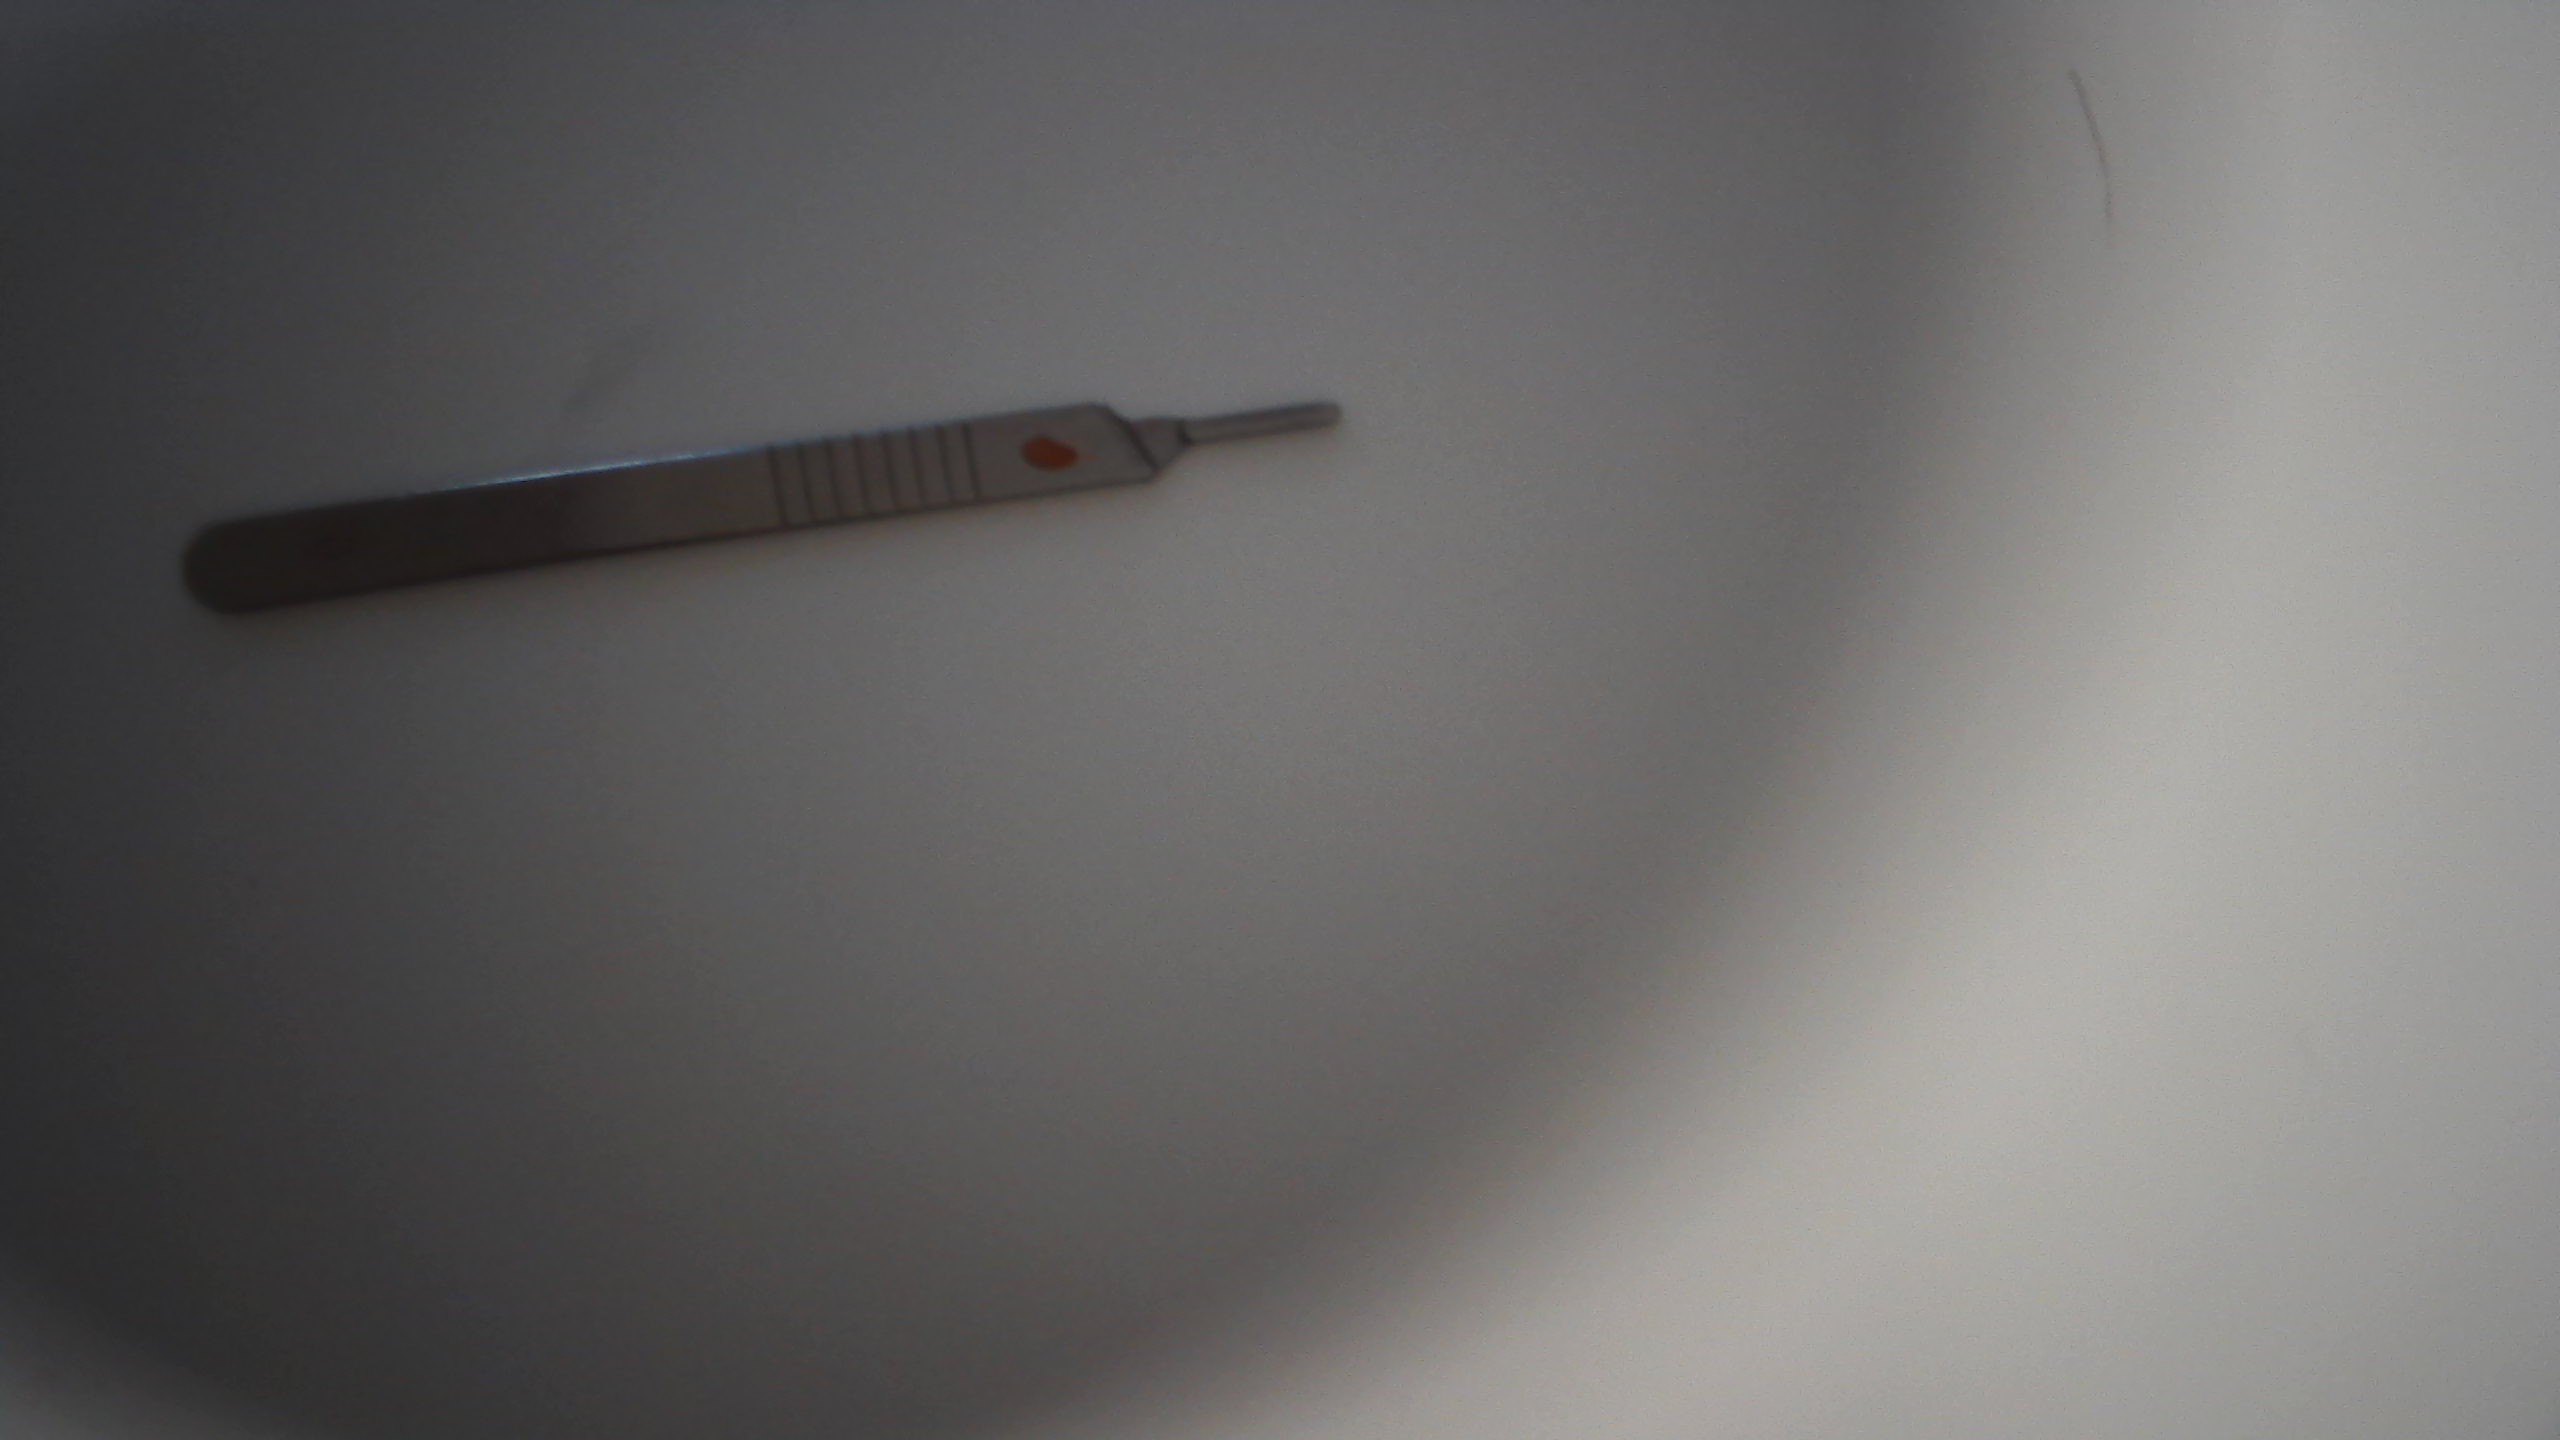Stain: (1020, 429, 1092, 475)
